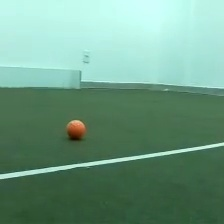ball: (64, 118, 88, 141)
goal: (1, 65, 83, 91)
